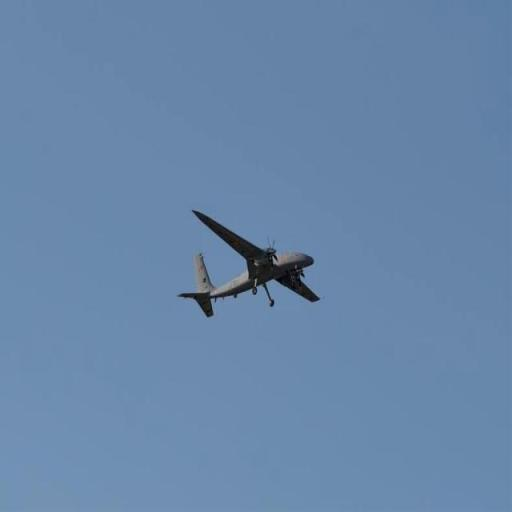uav: (167, 196, 335, 324)
